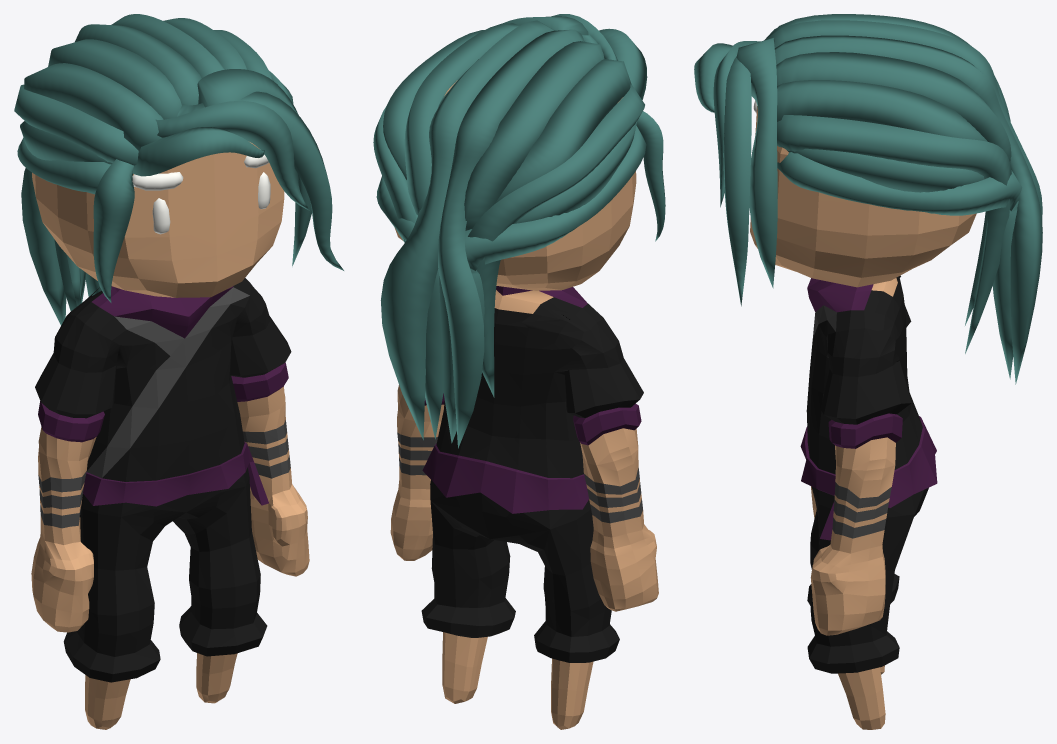
The model's file is debout-ninja-female.glb.
3 renders of one model, left to right at view 1: azimuth 30°, elevation 25°; view 2: azimuth 150°, elevation 25°; view 3: azimuth 270°, elevation 25°, orthographic. The views are drawn at different scales.
Visible parts, largest first — view 1: Cube004_1, Cube004_5, Cube004, Cube004_2, Cube004_3, Cube004_4; view 2: Cube004_5, Cube004_1, Cube004, Cube004_2, Cube004_3; view 3: Cube004_5, Cube004, Cube004_1, Cube004_2, Cube004_3.
Boxes of the visible parts, left/top/right/bottom form: Cube004_1: left=35, top=278, right=291, bottom=682; Cube004_5: left=14, top=14, right=343, bottom=325; Cube004: left=31, top=142, right=309, bottom=729; Cube004_2: left=38, top=286, right=288, bottom=506; Cube004_3: left=38, top=287, right=290, bottom=528; Cube004_4: left=132, top=154, right=270, bottom=234; Cube004_5: left=373, top=14, right=665, bottom=448; Cube004_1: left=421, top=297, right=643, bottom=662; Cube004: left=390, top=80, right=658, bottom=729; Cube004_2: left=422, top=286, right=641, bottom=513; Cube004_3: left=397, top=432, right=642, bottom=523; Cube004_5: left=694, top=14, right=1042, bottom=384; Cube004: left=750, top=106, right=976, bottom=729; Cube004_1: left=806, top=275, right=928, bottom=673; Cube004_2: left=800, top=278, right=937, bottom=540; Cube004_3: left=812, top=305, right=891, bottom=538.
Bounding box in the file's own units: 0.6683 × 1.64 × 0.7701.
